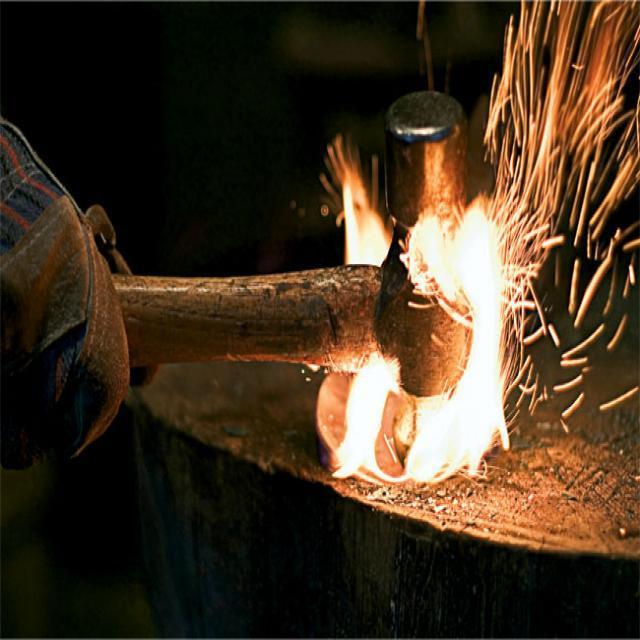hammer: (96, 79, 486, 478)
